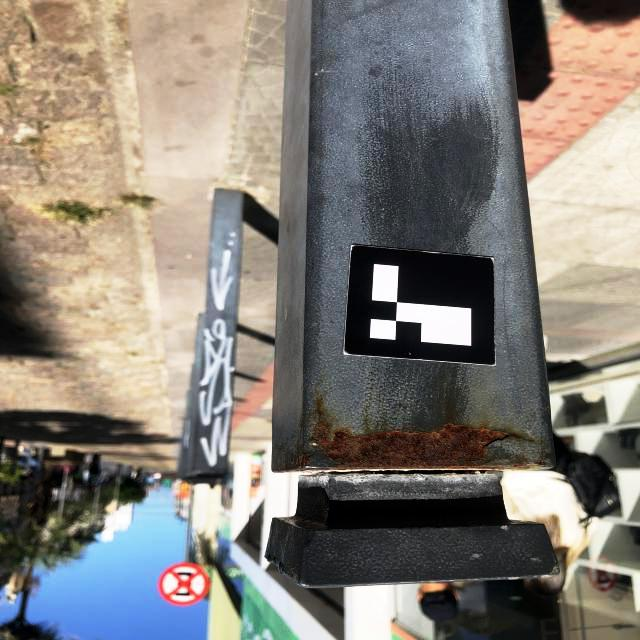Corrosion: (310, 421, 549, 471), (296, 453, 311, 468), (283, 469, 306, 472)
